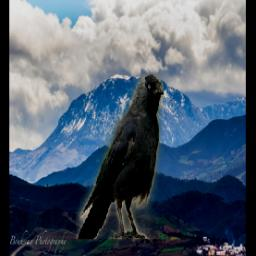Crow: (77, 75, 165, 240)
